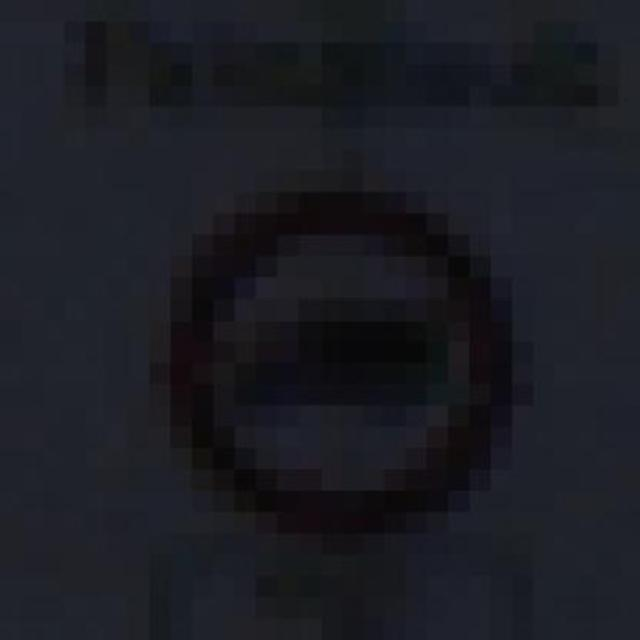Truck traffic is prohibited: (124, 142, 551, 569)
